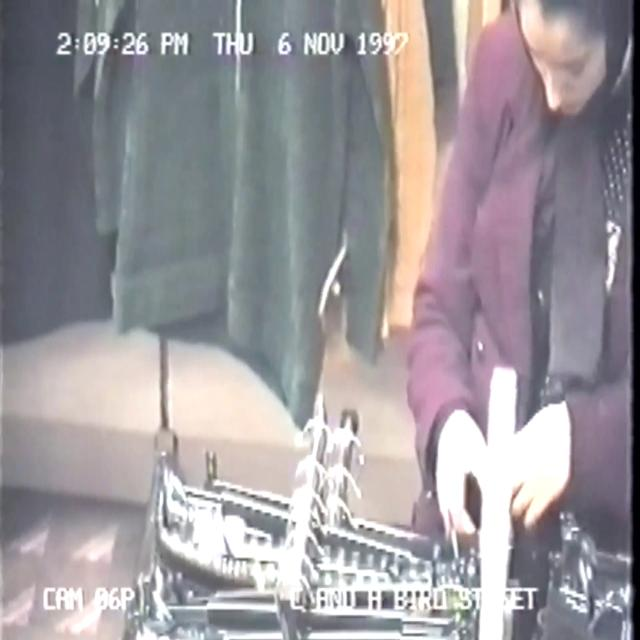normal: (333, 4, 631, 640)
